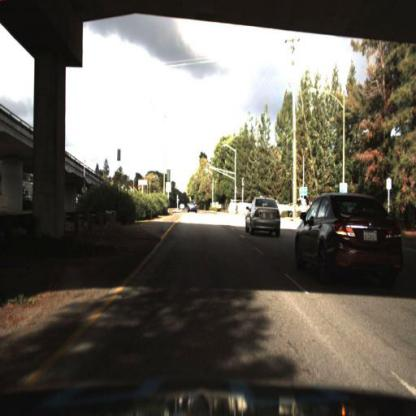car: (296, 189, 403, 283), (244, 193, 286, 244), (186, 201, 200, 217)
